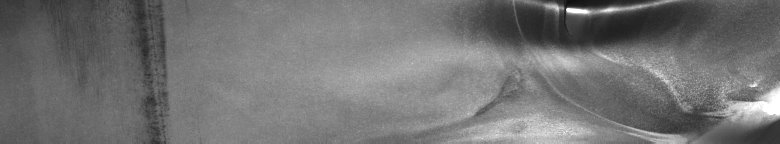ke: (468, 4, 776, 136)
